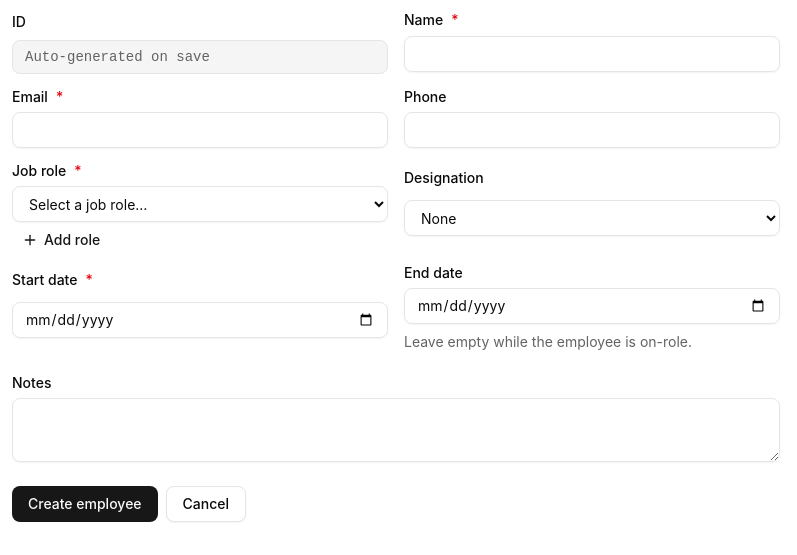
Test: EmployeeForm › adds a job role inline and selects it
Click the button "Add role" at x=72, y=240, box top-left (12, 230), bottom-right (388, 250)
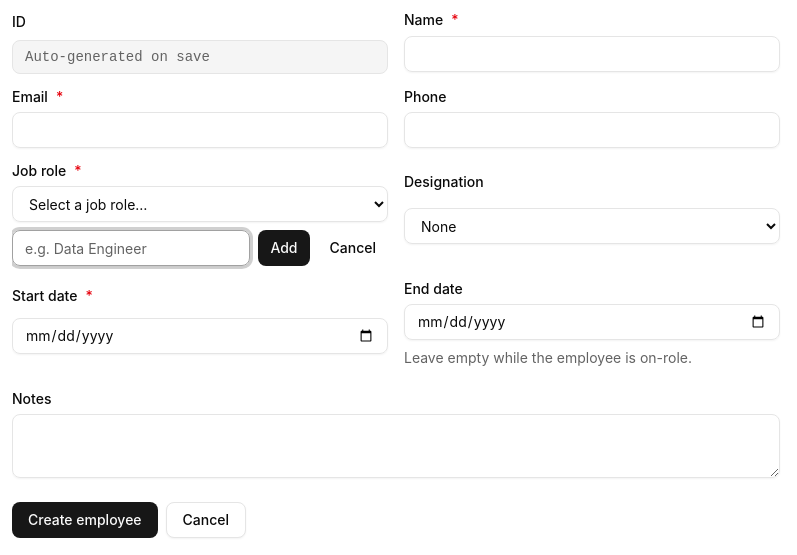
Type "Data Engineer" into the field named "New job role name" at x=131, y=248, box top-left (12, 230), bottom-right (250, 266)
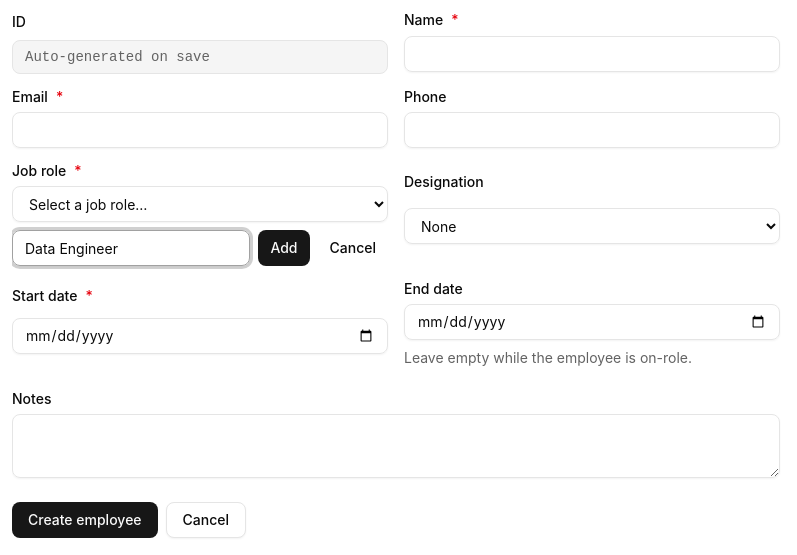
Click the button "Add" at x=284, y=248, box top-left (258, 230), bottom-right (310, 266)
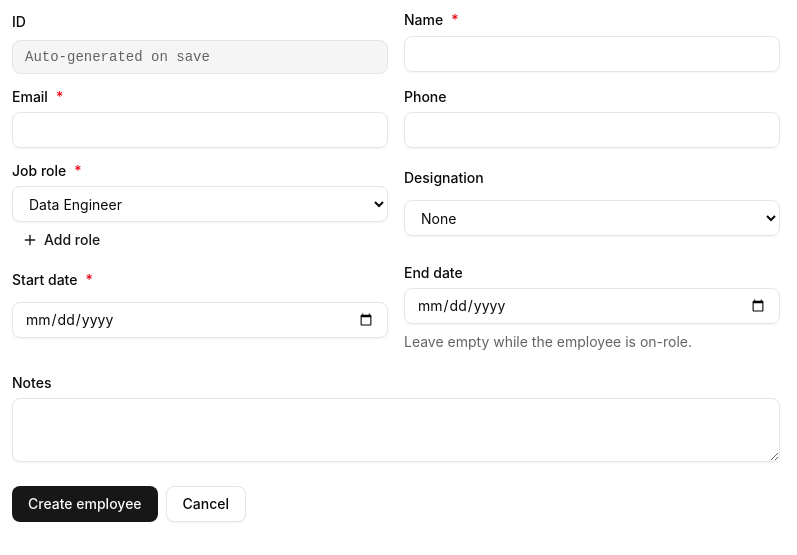
Now the dropdown labelled "Job role *" shows "Data Engineer", box top-left (12, 186), bottom-right (388, 222)
